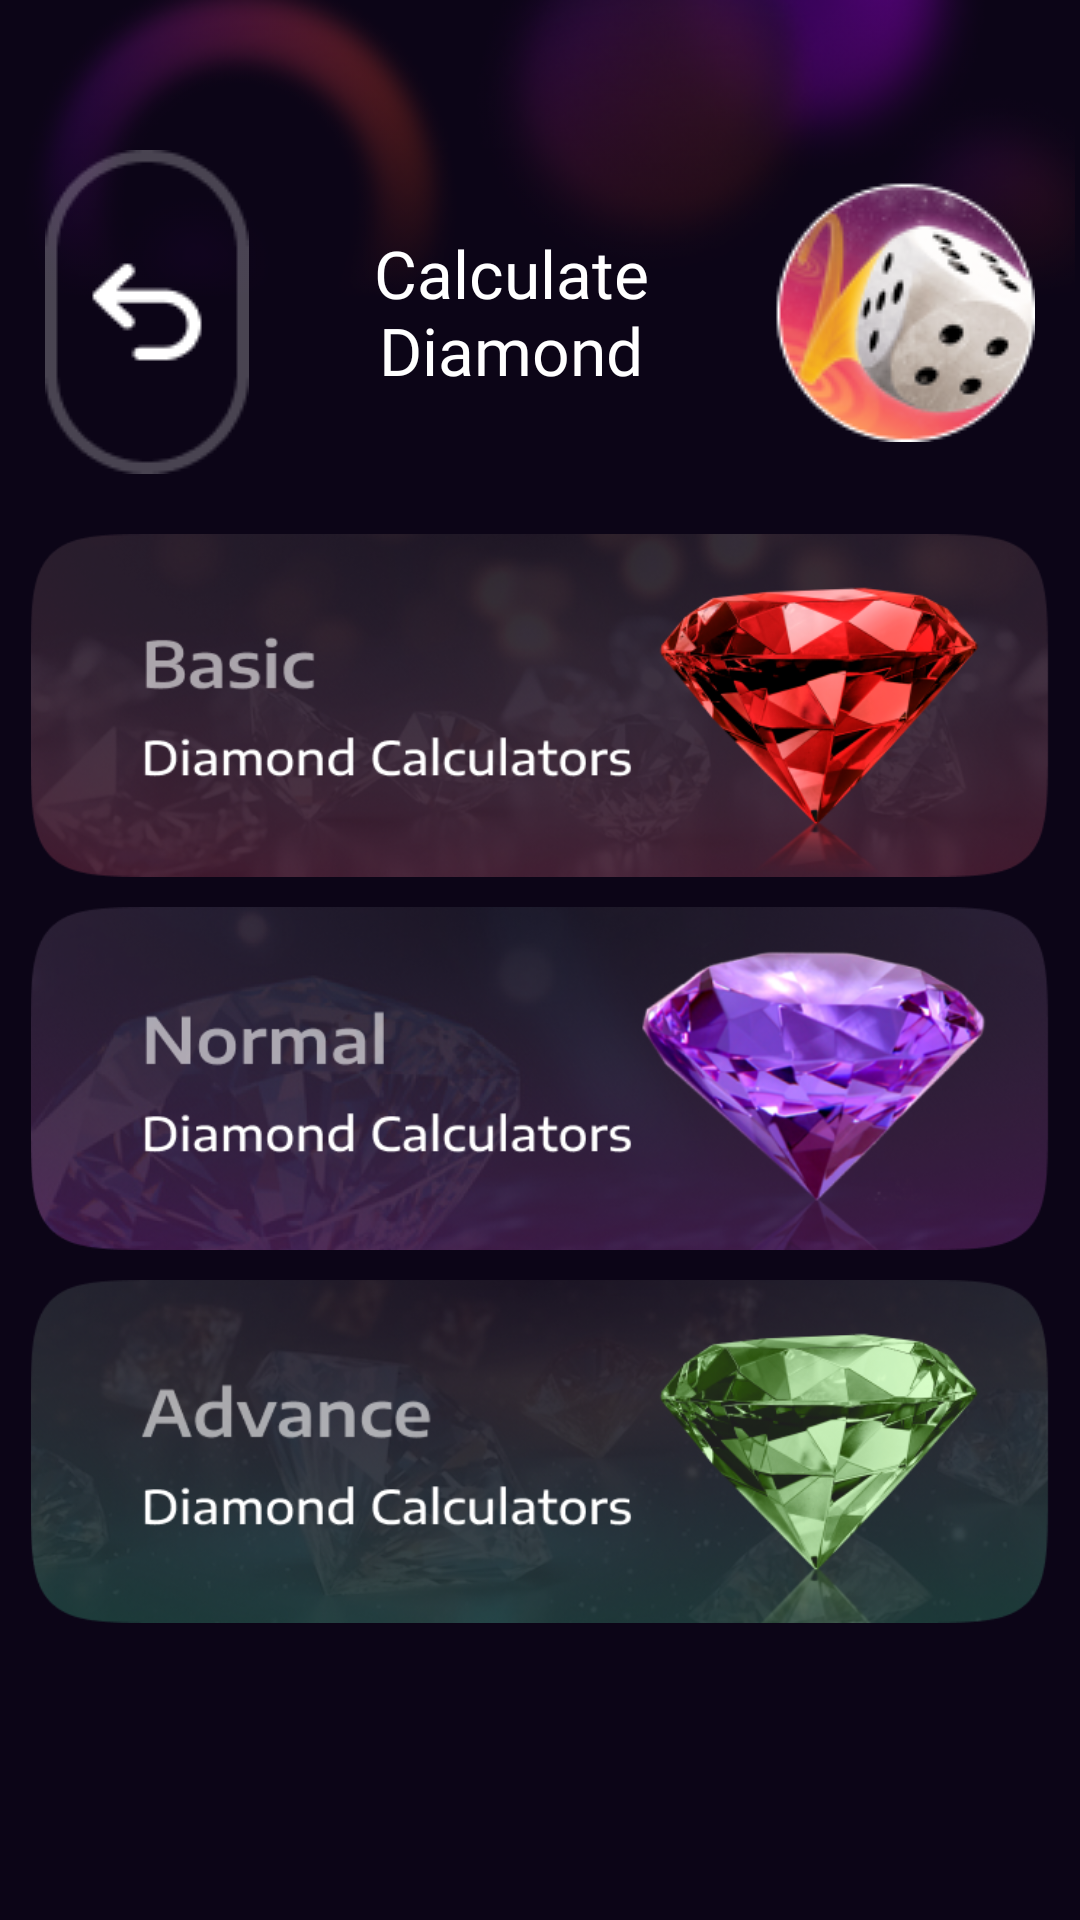

Locate icon controls on the screen. Image size 1080 × 1920, boxes as (x1, y1, x2, y2).
back: (45, 150, 249, 474)
